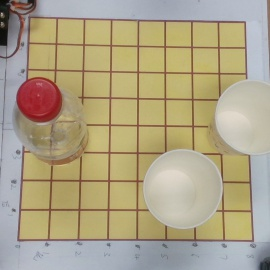bottle: (11, 78, 89, 168)
cup: (137, 147, 223, 232), (209, 79, 269, 158)
